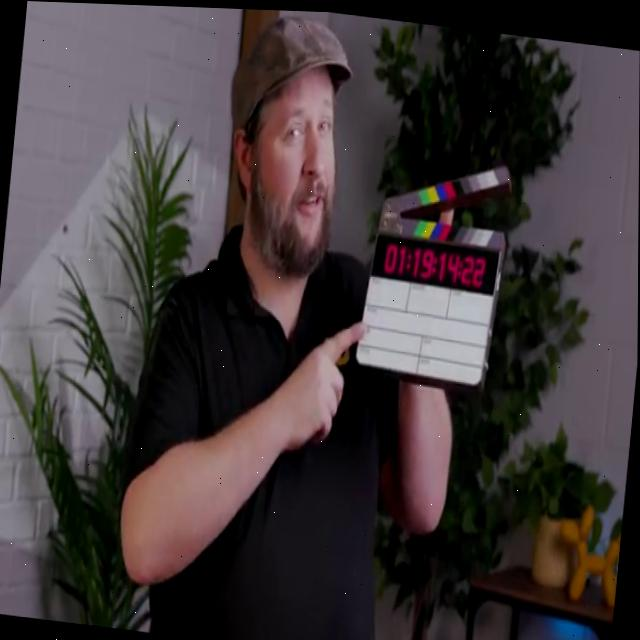Clapperboard: (350, 143, 513, 394)
